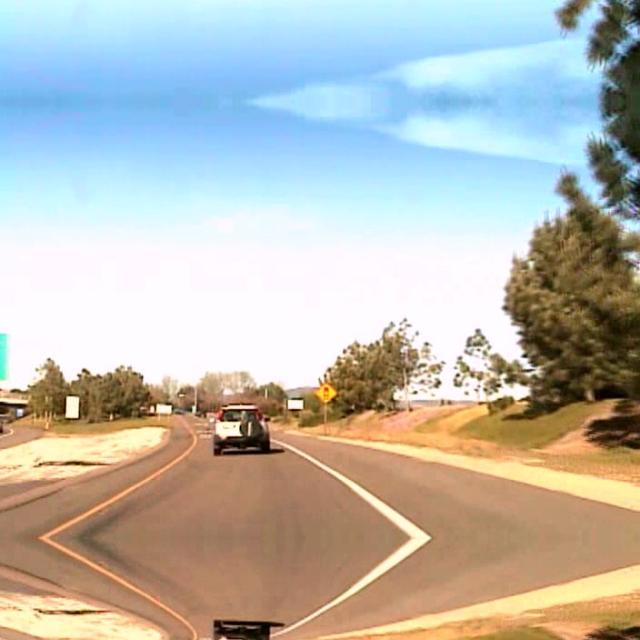signalAhead: (314, 381, 336, 401)
